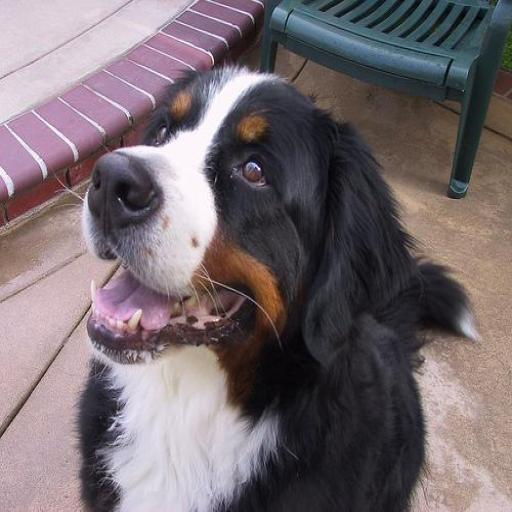dog_face: (88, 52, 447, 368)
